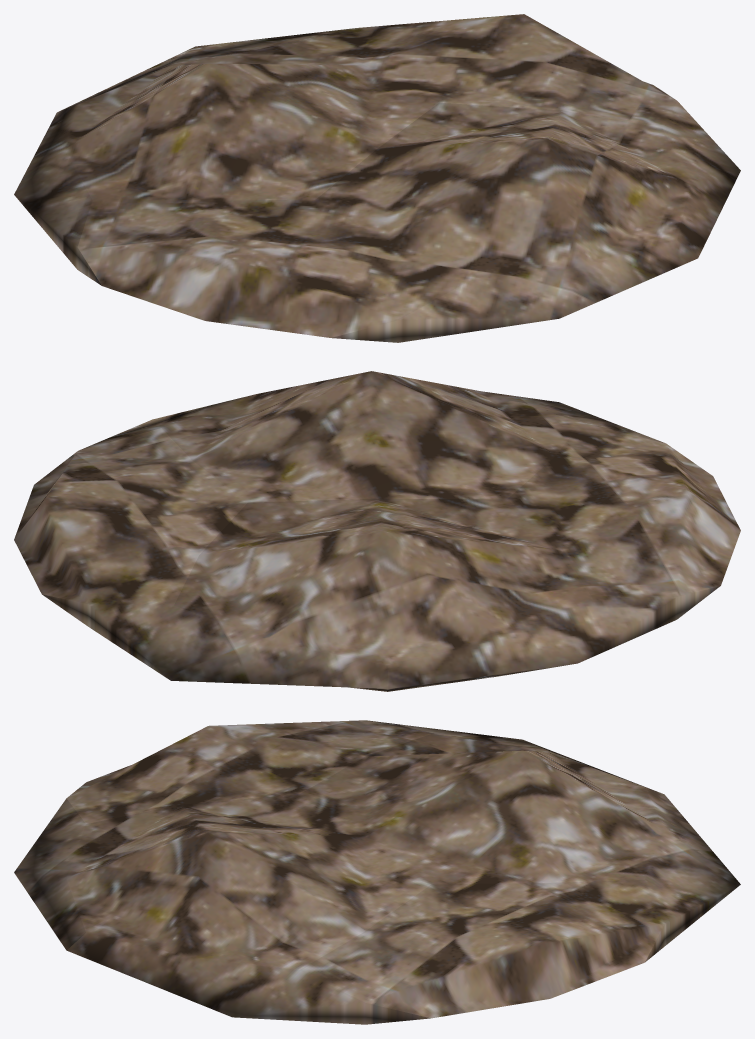
Rendered from CatWetFood.fbx.
3 views of the same model, one above another, from view 1: azimuth 30°, elevation 25°; view 2: azimuth 150°, elevation 25°; view 3: azimuth 270°, elevation 25° (orthographic). The views are drawn at different scales.
Parts seen in each view (by area): view 1: pPlatonic1; view 2: pPlatonic1; view 3: pPlatonic1.
Boxes of the visible parts, x1=… form: pPlatonic1: x1=14, y1=14, x2=740, y2=342; pPlatonic1: x1=14, y1=371, x2=740, y2=691; pPlatonic1: x1=14, y1=720, x2=740, y2=1024.
Bounding box in the file's own units: 10.58 × 1.96 × 11.14.
1 material, 1 textured.
